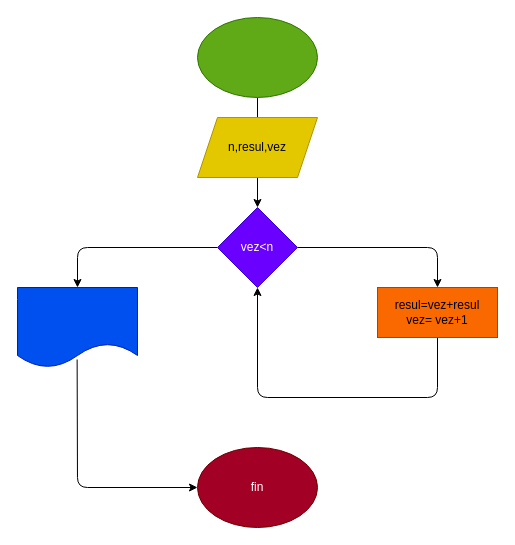
The diagram is 515 pixels wide and 545 high, and some of its shapes have lost their labels. Here are the shapes that lost their labels. From the top down, the centre of each, then its label:
At (x=257, y=57): "incio".
At (x=77, y=327): "el resultado es (resul)".
